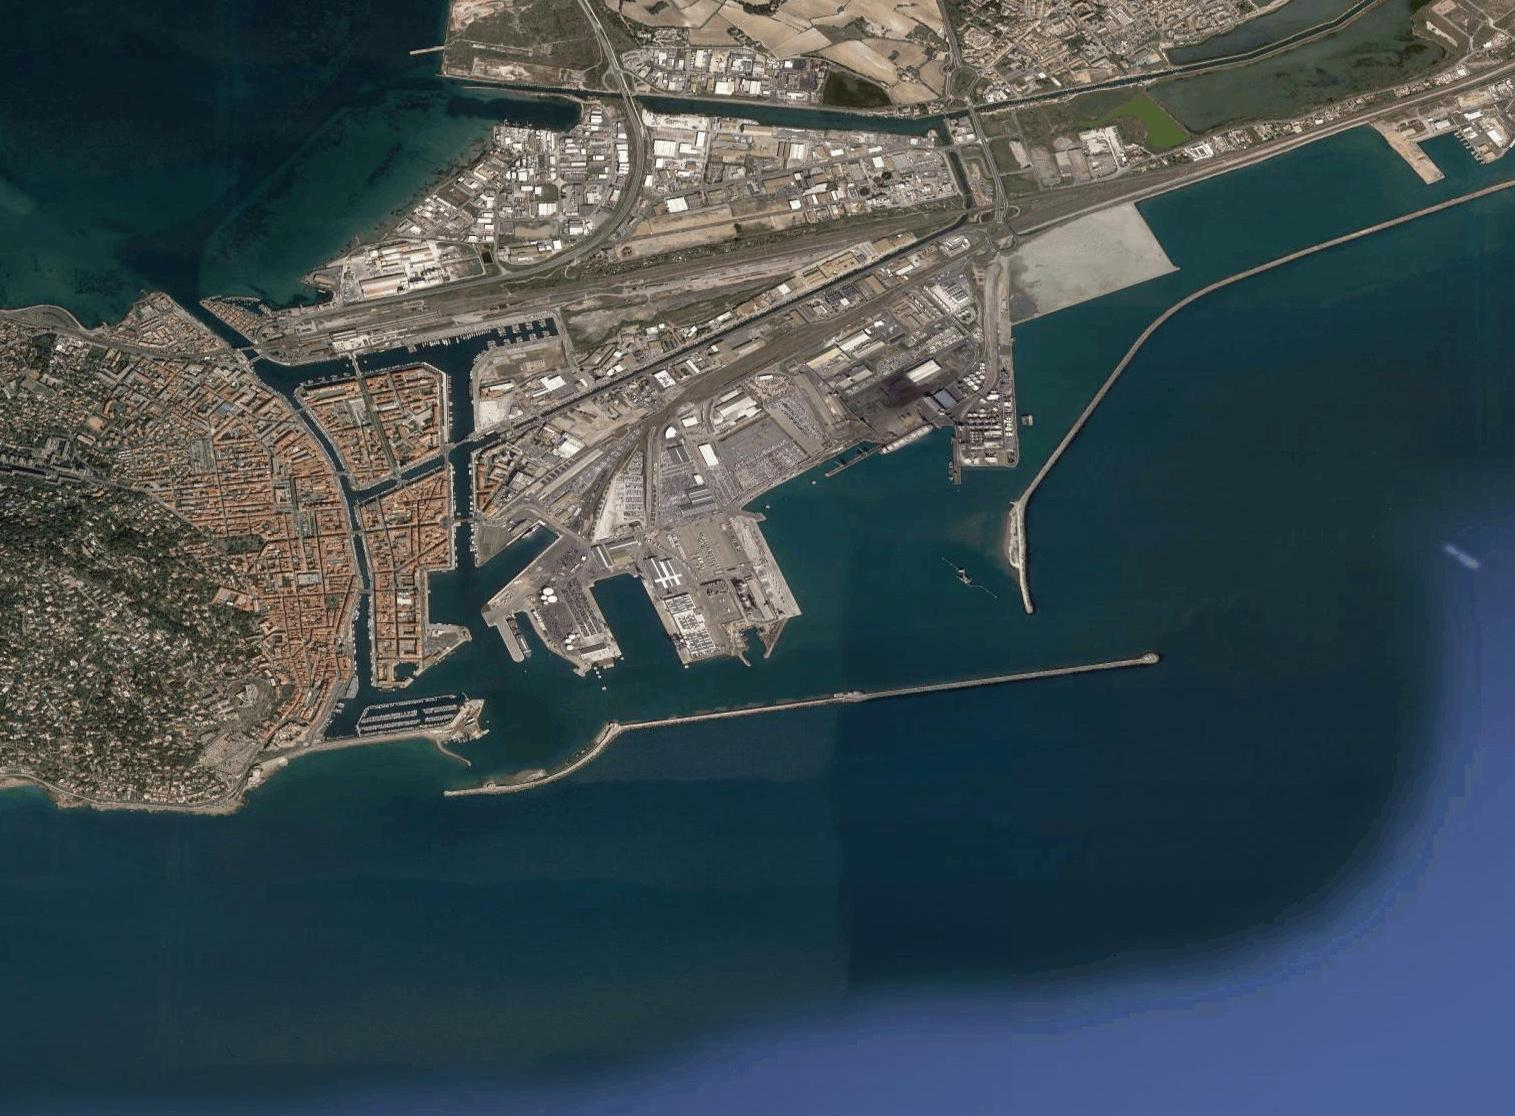harbor: (416, 250, 1180, 904)
industrial: (431, 107, 618, 240), (645, 119, 863, 203), (635, 33, 797, 100)
motorway: (568, 1, 626, 79), (579, 183, 639, 254), (618, 79, 649, 187)
